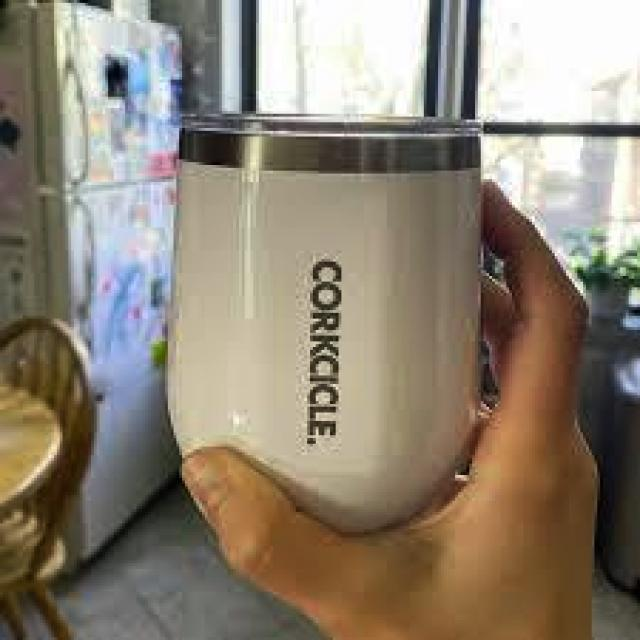bottle: (166, 111, 476, 535)
